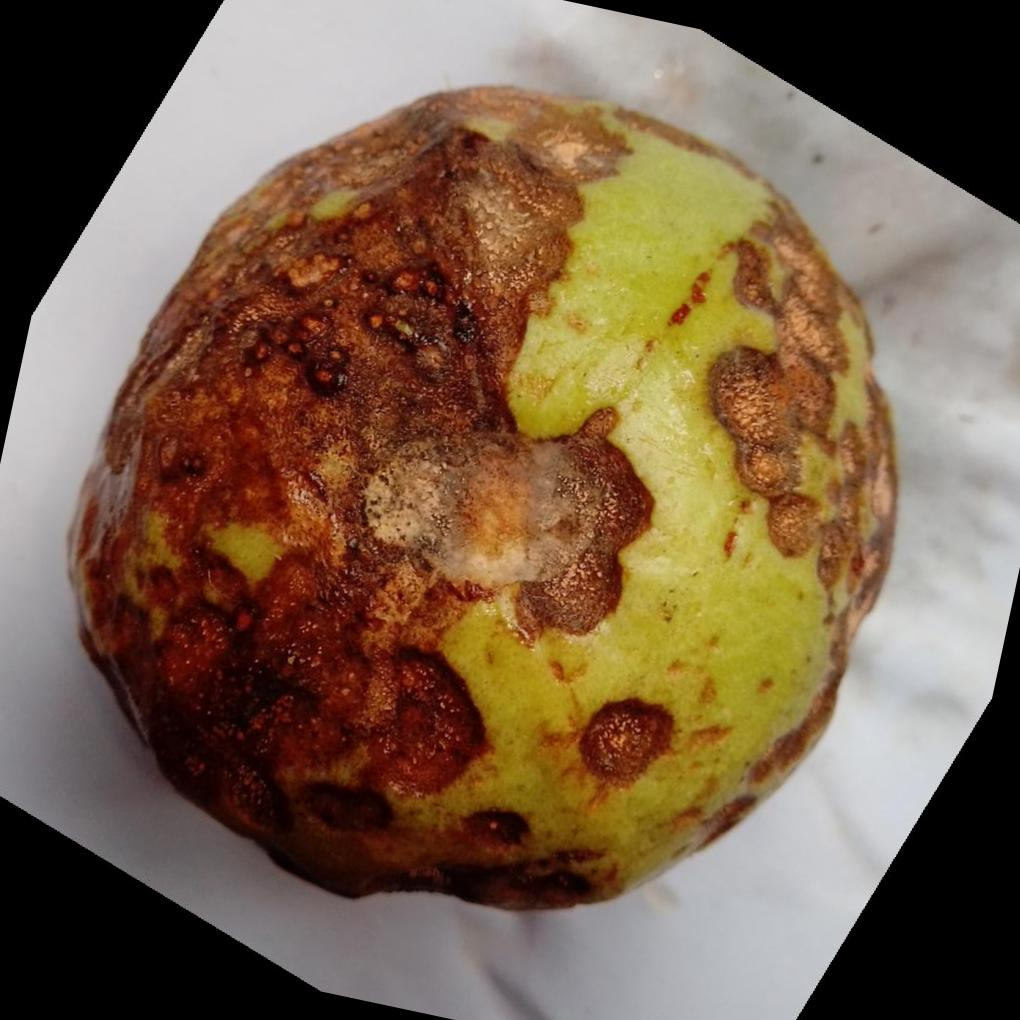FreshOrange: (60, 82, 899, 913)
